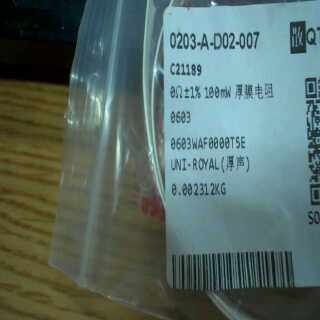0R: (169, 82, 234, 127)
